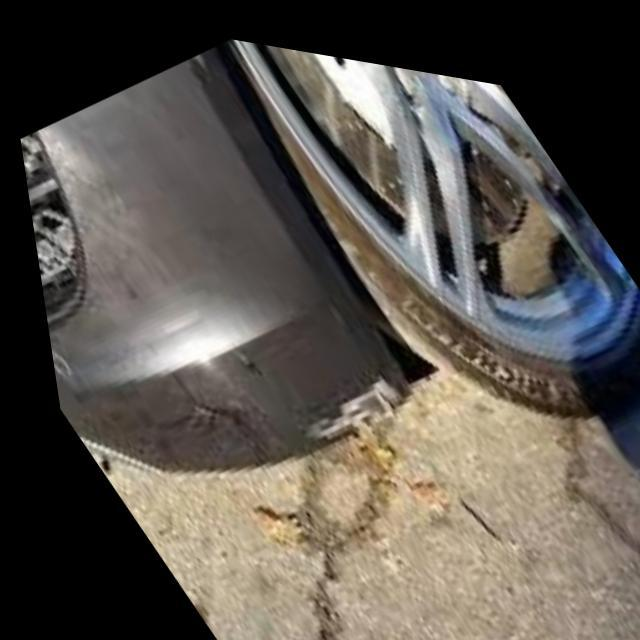crack: (79, 312, 418, 470)
